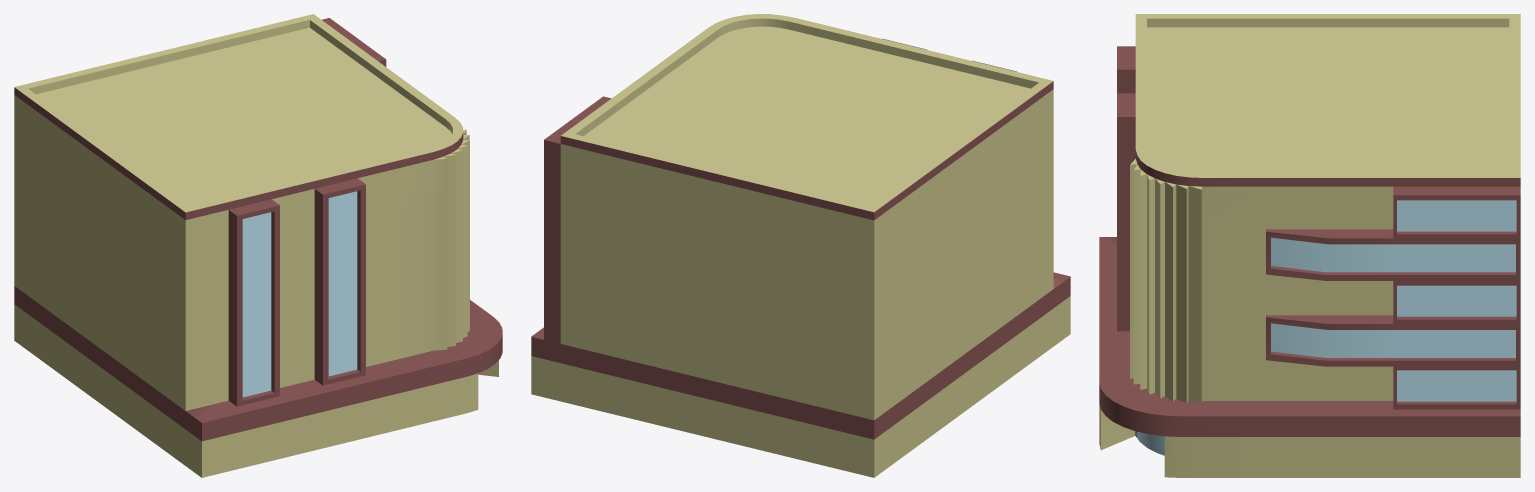
File: Gedung2.fbx
The picture shows the model from 3 angles, left to right: view 1: azimuth 30°, elevation 25°; view 2: azimuth 150°, elevation 25°; view 3: azimuth 270°, elevation 25°; orthographic projection. The views are drawn at different scales.
Parts seen in each view (by area): view 1: Cube.003; view 2: Cube.003; view 3: Cube.003.
Part boxes in pixels (left/top/right/bottom): Cube.003: left=14, top=14, right=502, bottom=477; Cube.003: left=531, top=14, right=1070, bottom=477; Cube.003: left=1099, top=14, right=1520, bottom=477.
Size of the model in its own units: 400 by 397 by 296.
